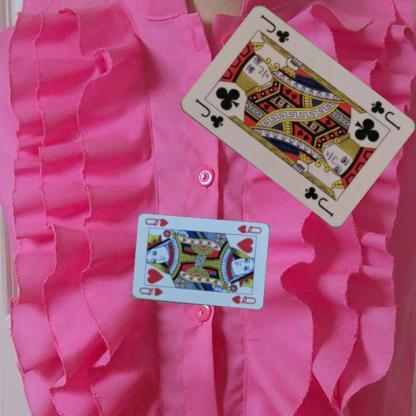Jc: (368, 98, 402, 132), (192, 96, 225, 130)
Qh: (136, 284, 164, 298), (235, 223, 262, 235)
